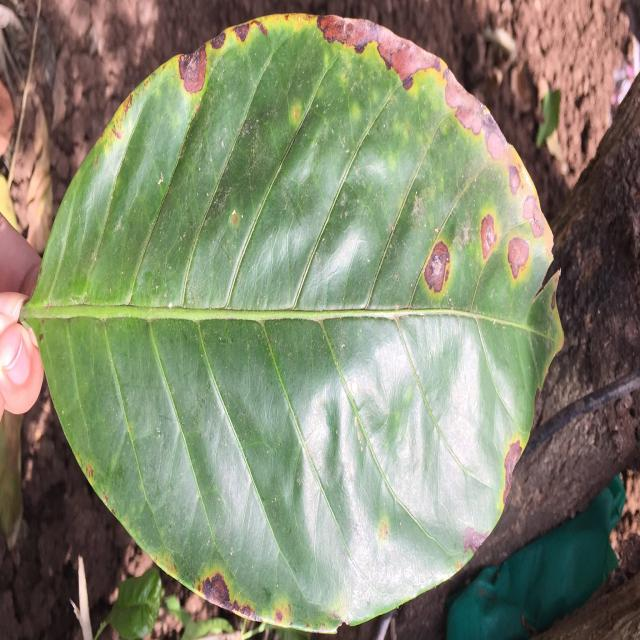Enfermedad-Mancha-de-hierro: (34, 14, 562, 624)
